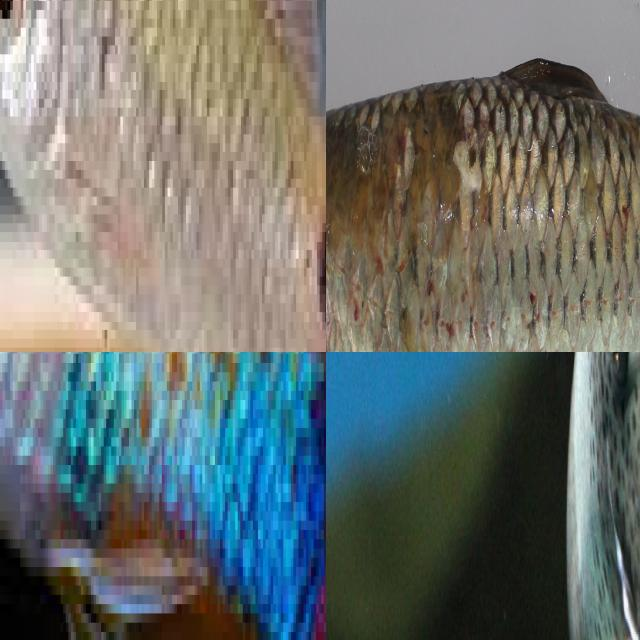fish: (0, 0, 326, 352), (326, 28, 640, 352), (0, 352, 326, 640), (517, 352, 640, 640)
